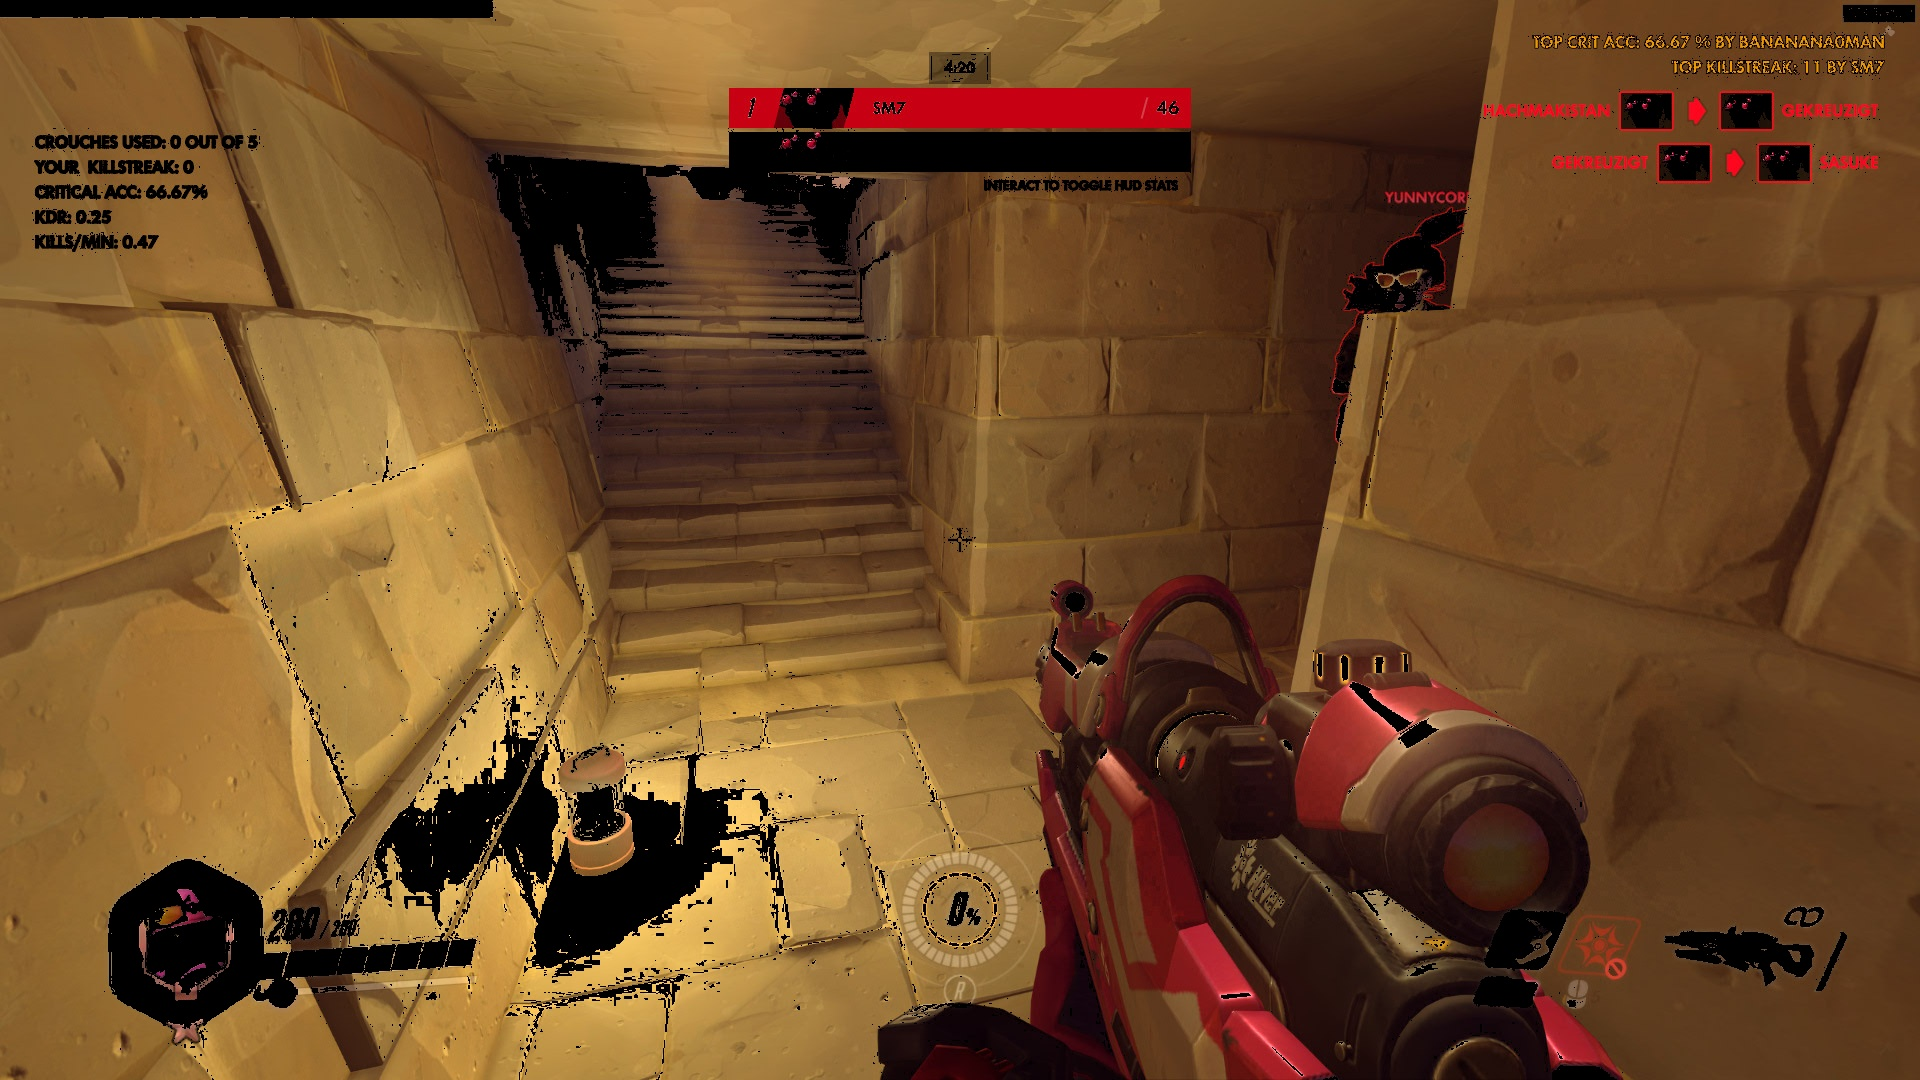widowmaker: (1327, 224, 1462, 452)
